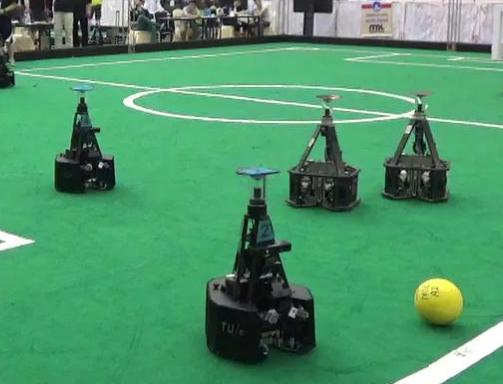robot: (201, 162, 318, 362), (282, 92, 361, 214), (383, 87, 450, 205), (50, 83, 118, 194)
